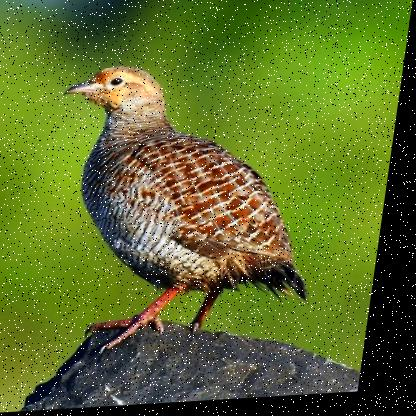Burung: (38, 55, 347, 361)
